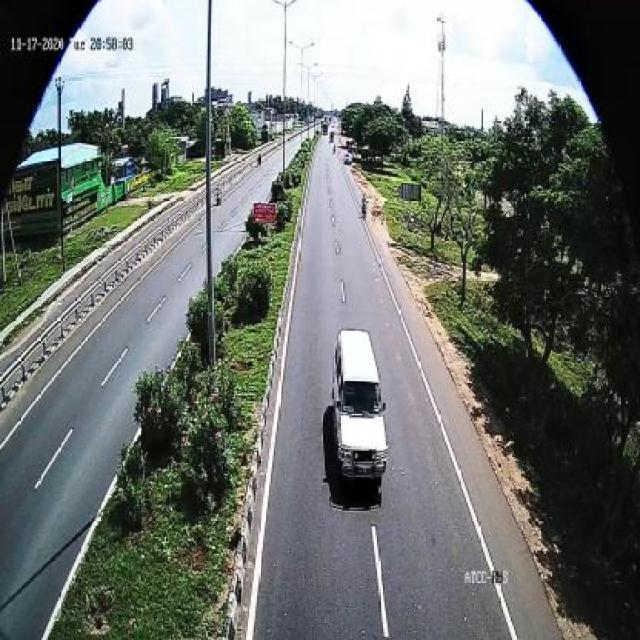car: (329, 320, 391, 500)
